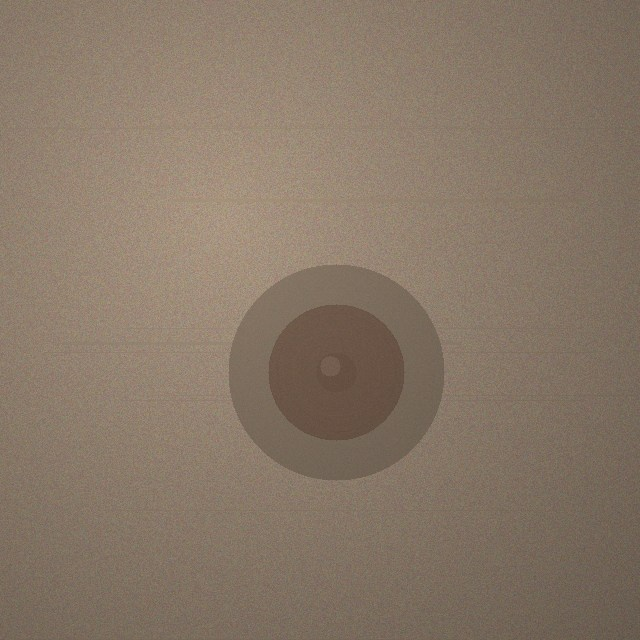good: (228, 264, 444, 480)
